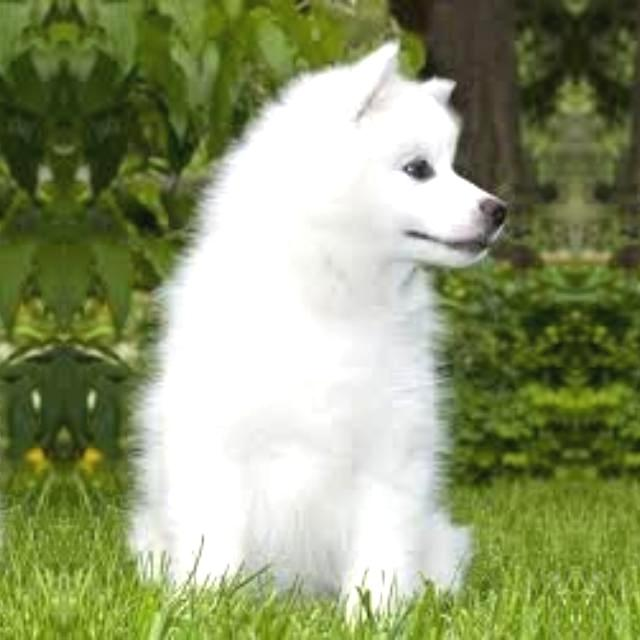dog: (114, 67, 512, 605), (0, 67, 16, 605)
